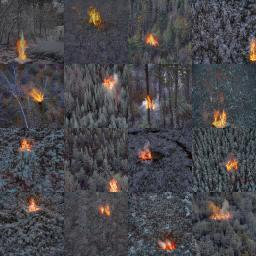Small fire: (207, 201, 235, 223), (15, 35, 31, 63), (17, 136, 36, 157), (25, 195, 40, 218), (211, 111, 229, 130), (29, 87, 46, 105), (156, 237, 175, 253), (97, 201, 112, 220), (87, 8, 101, 27), (137, 146, 153, 162), (107, 178, 121, 196), (103, 74, 118, 90), (143, 95, 157, 112), (247, 37, 256, 63), (225, 158, 240, 172), (145, 33, 160, 46)
